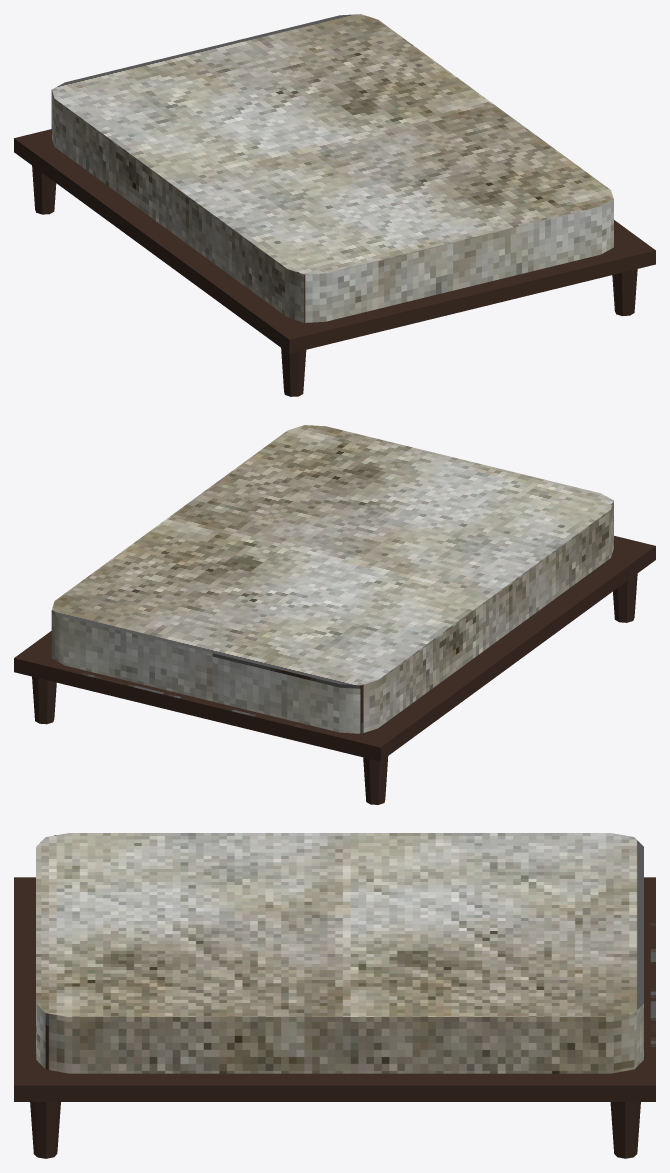
Rendered from Cama.fbx.
3 renders of one model, top to bottom at view 1: azimuth 30°, elevation 25°; view 2: azimuth 150°, elevation 25°; view 3: azimuth 270°, elevation 25°, orthographic. The views are drawn at different scales.
Visible parts, largest first — view 1: Cama; view 2: Cama; view 3: Cama.
Boxes of the visible parts, x1=… form: Cama: x1=14, y1=14, x2=655, y2=396; Cama: x1=14, y1=425, x2=655, y2=804; Cama: x1=14, y1=833, x2=655, y2=1158.
Bounding box in the file's own units: 216 × 65 × 281.
Materials: 1 (1 with a texture image).
